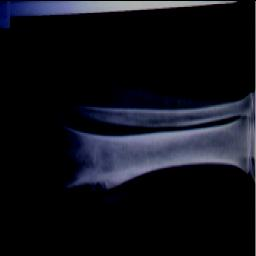cancer: (61, 107, 256, 189)
